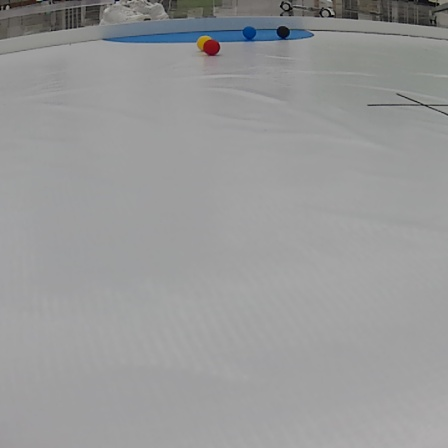black: (277, 27, 293, 37)
blue: (244, 29, 258, 39)
blue_base: (101, 23, 314, 46)
red: (205, 40, 221, 56)
yellow: (195, 33, 208, 50)
